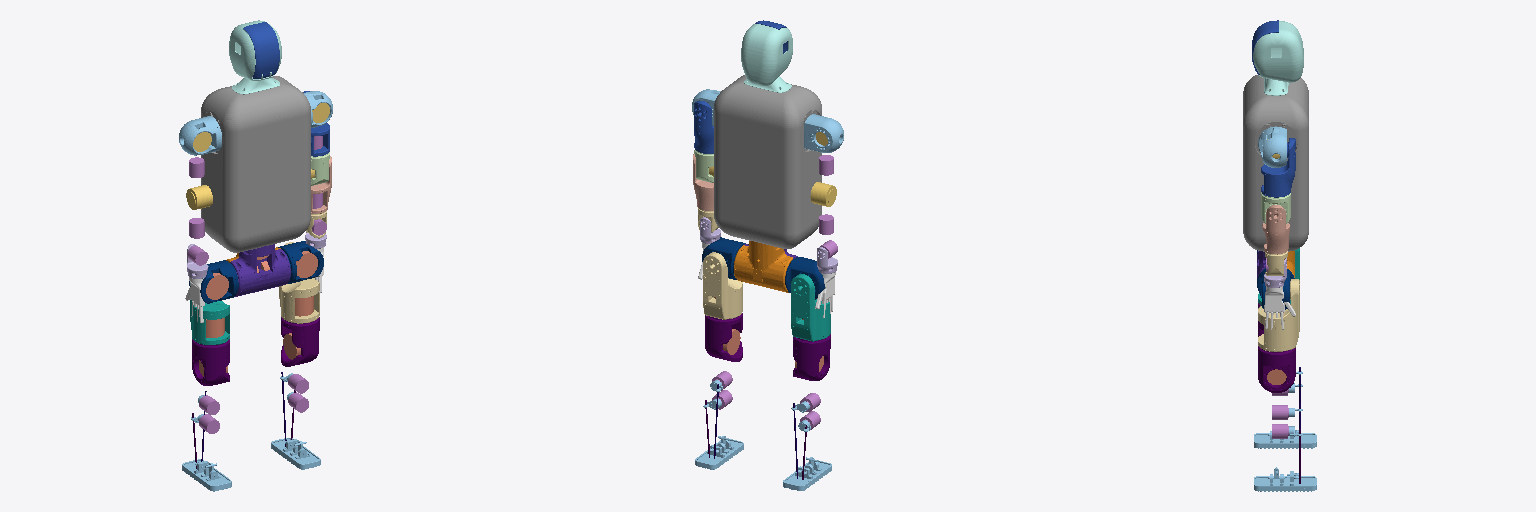
--- What the picture shows (computed from the rendered views, not written in the file) ---
Views: 3 orthographic renders of the robot side by side, from view 1: azimuth 30°, elevation 25°; view 2: azimuth 150°, elevation 25°; view 3: azimuth 270°, elevation 25°.
Robot: robot_harambe — 26 links, 25 joints (25 revolute); root link urdf_base; default pose: all joints at 0.
Visible links, largest first — view 1: urdf_simplified_torso, urdf_base, urdf_r_upper_femur_assemby, urdf_lower_femur_assembly_2, urdf_lower_femur_assembly, urdf_l_upper_femur_assembly, urdf_l_shoulder_assembly, urdf_hip_assembly, urdf_hip_assembly_2, urdf_foot_assembly_2, urdf_foot_assembly, urdf_r_tibia_assembly (+6 smaller); view 2: urdf_simplified_torso, urdf_base, urdf_r_upper_femur_assemby, urdf_l_upper_femur_assembly, urdf_lower_femur_assembly_2, urdf_lower_femur_assembly, urdf_l_shoulder_assembly, urdf_r_upper_arm_assembly, urdf_l_wrist_assembly, urdf_l_tibia_assembly, urdf_r_tibia_assembly, urdf_foot_assembly (+4 smaller); view 3: urdf_simplified_torso, urdf_r_upper_femur_assemby, urdf_lower_femur_assembly_2, urdf_r_upper_arm_assembly, urdf_r_upper_forearm_assembly, urdf_r_shoulder_assembly, urdf_r_wrist_assembly, urdf_foot_assembly_2, urdf_foot_assembly, urdf_r_tibia_assembly.
Link boxes in pixels (bbox=[...]): urdf_simplified_torso: bbox=[201, 20, 310, 252]; urdf_base: bbox=[226, 244, 290, 296]; urdf_r_upper_femur_assemby: bbox=[279, 242, 319, 323]; urdf_lower_femur_assembly_2: bbox=[281, 317, 319, 366]; urdf_lower_femur_assembly: bbox=[192, 339, 229, 385]; urdf_l_upper_femur_assembly: bbox=[190, 300, 229, 344]; urdf_l_shoulder_assembly: bbox=[179, 116, 221, 155]; urdf_hip_assembly: bbox=[189, 260, 238, 303]; urdf_hip_assembly_2: bbox=[278, 241, 323, 283]; urdf_foot_assembly_2: bbox=[271, 438, 320, 469]; urdf_foot_assembly: bbox=[182, 459, 231, 491]; urdf_r_tibia_assembly: bbox=[280, 372, 308, 446]; urdf_simplified_torso: bbox=[714, 20, 821, 248]; urdf_base: bbox=[734, 241, 797, 292]; urdf_r_upper_femur_assemby: bbox=[703, 252, 742, 319]; urdf_l_upper_femur_assembly: bbox=[791, 274, 830, 341]; urdf_lower_femur_assembly_2: bbox=[705, 313, 742, 361]; urdf_lower_femur_assembly: bbox=[793, 334, 830, 380]; urdf_l_shoulder_assembly: bbox=[804, 114, 843, 152]; urdf_r_upper_arm_assembly: bbox=[694, 101, 713, 153]; urdf_l_wrist_assembly: bbox=[815, 247, 837, 317]; urdf_l_tibia_assembly: bbox=[791, 393, 820, 479]; urdf_r_tibia_assembly: bbox=[703, 371, 732, 458]; urdf_foot_assembly: bbox=[783, 460, 831, 490]; urdf_simplified_torso: bbox=[1243, 20, 1308, 251]; urdf_r_upper_femur_assemby: bbox=[1258, 279, 1299, 351]; urdf_lower_femur_assembly_2: bbox=[1258, 346, 1295, 392]; urdf_r_upper_arm_assembly: bbox=[1261, 138, 1295, 197]; urdf_r_upper_forearm_assembly: bbox=[1262, 205, 1289, 254]; urdf_r_shoulder_assembly: bbox=[1258, 126, 1286, 167]; urdf_r_wrist_assembly: bbox=[1264, 258, 1295, 329]; urdf_foot_assembly_2: bbox=[1254, 471, 1316, 491]; urdf_foot_assembly: bbox=[1254, 430, 1316, 448]; urdf_r_tibia_assembly: bbox=[1272, 404, 1302, 483].
Size in the robot's own frame: 0.6166 by 0.2679 by 1.77 metres.
Meshes: 33 distinct files referenced, 56 mesh visuals loaded (27 binary STL); not drawn: 6 (reference not matched to a file when rendering).

The robot description file, URDF, robot "robot_harambe":
<?xml version="1.0" ?>
<!-- Generated using onshape-to-robot -->
<!-- Onshape document_id: 44eccb8c34362883e6cd3fd1 -->
<robot name="robot_harambe">
  <!-- Link urdf_base -->
  <link name="urdf_base">
    <inertial>
      <origin xyz="0.000699269 0.0334604 -0.431702" rpy="0 0 0"/>
      <mass value="5.132"/>
      <inertia ixx="0.0213139" ixy="-2.35276e-07" ixz="6.5838e-06" iyy="0.0288848" iyz="-2.88595e-05" izz="0.0155352"/>
    </inertial>
    <!-- Part stator_x8_p20_120_unified -->
    <visual>
      <origin xyz="-0.0103011 0.0333787 -0.467748" rpy="-1.5708 0.785398 1.5708"/>
      <geometry>
        <mesh filename="package://assets/stator_x8_p20_120_unified.stl"/>
      </geometry>
      <material name="stator_x8_p20_120_unified_material">
        <color rgba="0.882353 0.572549 0.478431 1"/>
      </material>
    </visual>
    <collision>
      <origin xyz="-0.0103011 0.0333787 -0.467748" rpy="-1.5708 0.785398 1.5708"/>
      <geometry>
        <mesh filename="package://assets/stator_x8_p20_120_unified.stl"/>
      </geometry>
    </collision>
    <!-- Part b_base -->
    <visual>
      <origin xyz="0.000697952 -0.00271429 -0.432504" rpy="0 -0 0"/>
      <geometry>
        <mesh filename="package://assets/b_base.stl"/>
      </geometry>
      <material name="b_base_material">
        <color rgba="0.368627 0.25098 0.643137 1"/>
      </material>
    </visual>
    <collision>
      <origin xyz="0.000697952 -0.00271429 -0.432504" rpy="0 -0 0"/>
      <geometry>
        <mesh filename="package://assets/b_base.stl"/>
      </geometry>
    </collision>
    <!-- Part stator_x8_p20_120_unified_2 -->
    <visual>
      <origin xyz="0.0116989 0.0333787 -0.467748" rpy="1.5708 -0.785398 1.5708"/>
      <geometry>
        <mesh filename="package://assets/stator_x8_p20_120_unified.stl"/>
      </geometry>
      <material name="stator_x8_p20_120_unified_2_material">
        <color rgba="0.882353 0.572549 0.478431 1"/>
      </material>
    </visual>
    <collision>
      <origin xyz="0.0116989 0.0333787 -0.467748" rpy="1.5708 -0.785398 1.5708"/>
      <geometry>
        <mesh filename="package://assets/stator_x8_p20_120_unified.stl"/>
      </geometry>
    </collision>
    <!-- Part stator_x8_p20_120_unified_3 -->
    <visual>
      <origin xyz="0.000698852 0.0333787 -0.396748" rpy="0 -0 0"/>
      <geometry>
        <mesh filename="package://assets/stator_x8_p20_120_unified.stl"/>
      </geometry>
      <material name="stator_x8_p20_120_unified_3_material">
        <color rgba="0.882353 0.572549 0.478431 1"/>
      </material>
    </visual>
    <collision>
      <origin xyz="0.000698852 0.0333787 -0.396748" rpy="0 -0 0"/>
      <geometry>
        <mesh filename="package://assets/stator_x8_p20_120_unified.stl"/>
      </geometry>
    </collision>
    <!-- Part f_base -->
    <visual>
      <origin xyz="0.000705351 0.070373 -0.431099" rpy="0 -0 0"/>
      <geometry>
        <mesh filename="package://assets/f_base.stl"/>
      </geometry>
      <material name="f_base_material">
        <color rgba="0.909804 0.572549 0.164706 1"/>
      </material>
    </visual>
    <collision>
      <origin xyz="0.000705351 0.070373 -0.431099" rpy="0 -0 0"/>
      <geometry>
        <mesh filename="package://assets/f_base.stl"/>
      </geometry>
    </collision>
  </link>
  <!-- Link urdf_simplified_torso -->
  <link name="urdf_simplified_torso">
    <inertial>
      <origin xyz="3.65935e-05 0.00131439 0.32693" rpy="0 0 0"/>
      <mass value="5.9"/>
      <inertia ixx="0.291383" ixy="1.29291e-06" ixz="-8.5891e-05" iyy="0.318357" iyz="-0.00277833" izz="0.0767614"/>
    </inertial>
    <!-- Part urdf_simplified_torso -->
    <visual>
      <origin xyz="0 5.1e-11 0.26095" rpy="-0 -0 -0"/>
      <geometry>
        <mesh filename="package://assets/urdf_simplified_torso.stl"/>
      </geometry>
      <material name="urdf_simplified_torso_material">
        <color rgba="0.647059 0.647059 0.647059 1"/>
      </material>
    </visual>
    <collision>
      <origin xyz="0 5.1e-11 0.26095" rpy="-0 -0 -0"/>
      <geometry>
        <mesh filename="package://assets/urdf_simplified_torso.stl"/>
      </geometry>
    </collision>
    <!-- Part head -->
    <visual>
      <origin xyz="0.000358088 3.7822e-05 0.67095" rpy="0 0 0"/>
      <geometry>
        <mesh filename="package://assets/head.stl"/>
      </geometry>
      <material name="head_material">
        <color rgba="0.737255 0.937255 0.917647 1"/>
      </material>
    </visual>
    <collision>
      <origin xyz="0.000358088 3.7822e-05 0.67095" rpy="0 0 0"/>
      <geometry>
        <mesh filename="package://assets/head.stl"/>
      </geometry>
    </collision>
    <!-- Part back_access -->
    <visual>
      <origin xyz="0.000358088 3.7822e-05 0.672878" rpy="0 0 0"/>
      <geometry>
        <mesh filename="package://assets/back_access.stl"/>
      </geometry>
      <material name="back_access_material">
        <color rgba="0.231373 0.380392 0.705882 1"/>
      </material>
    </visual>
    <collision>
      <origin xyz="0.000358088 3.7822e-05 0.672878" rpy="0 0 0"/>
      <geometry>
        <mesh filename="package://assets/back_access.stl"/>
      </geometry>
    </collision>
  </link>
  <!-- Link urdf_l_shoulder_assembly -->
  <link name="urdf_l_shoulder_assembly">
    <inertial>
      <origin xyz="-0.00413417 4.09728e-05 0.0631966" rpy="0 0 0"/>
      <mass value="1.246"/>
      <inertia ixx="0.00206364" ixy="1.488e-06" ixz="-3.5558e-05" iyy="0.00171114" iyz="3.32975e-06" izz="0.00152408"/>
    </inertial>
    <!-- Part l_shoulder -->
    <visual>
      <origin xyz="-0.00130076 6.96521e-06 0.0502746" rpy="1.5708 1.5708 0"/>
      <geometry>
        <mesh filename="package://assets/l_shoulder.stl"/>
      </geometry>
      <material name="l_shoulder_material">
        <color rgba="0.615686 0.811765 0.929412 1"/>
      </material>
    </visual>
    <collision>
      <origin xyz="-0.00130076 6.96521e-06 0.0502746" rpy="1.5708 1.5708 0"/>
      <geometry>
        <mesh filename="package://assets/l_shoulder.stl"/>
      </geometry>
    </collision>
    <!-- Part stator_x6_p20_60_unified -->
    <visual>
      <origin xyz="-0.0385 0 0.07" rpy="0 1.5708 0"/>
      <geometry>
        <mesh filename="package://assets/stator_x6_p20_60_unified.stl"/>
      </geometry>
      <material name="stator_x6_p20_60_unified_material">
        <color rgba="0.960784 0.835294 0.470588 1"/>
      </material>
    </visual>
    <collision>
      <origin xyz="-0.0385 0 0.07" rpy="0 1.5708 0"/>
      <geometry>
        <mesh filename="package://assets/stator_x6_p20_60_unified.stl"/>
      </geometry>
    </collision>
  </link>
  <!-- Link urdf_l_upper_arm_assembly -->
  <link name="urdf_l_upper_arm_assembly">
    <inertial>
      <origin xyz="0.000631443 0.105506 -0.0354438" rpy="0 0 0"/>
      <mass value="0.802"/>
      <inertia ixx="0.00206427" ixy="-2.68695e-05" ixz="1.03041e-05" iyy="0.00104318" iyz="0.000475779" izz="0.00190836"/>
    </inertial>
    <!-- Part urdf_l_upper_arm_simplified -->
    <visual>
      <origin xyz="0.00120028 0.0932559 -0.0268697" rpy="1.5708 -0.785398 0"/>
      <geometry>
        <mesh filename="package://assets/urdf_l_upper_arm_simplified.stl"/>
      </geometry>
      <material name="urdf_l_upper_arm_simplified_material">
        <color rgba="0.917647 0.917647 0.917647 1"/>
      </material>
    </visual>
    <collision>
      <origin xyz="0.00120028 0.0932559 -0.0268697" rpy="1.5708 -0.785398 0"/>
      <geometry>
        <mesh filename="package://assets/urdf_l_upper_arm_simplified.stl"/>
      </geometry>
    </collision>
    <!-- Part stator_x4_p36_36_unified -->
    <visual>
      <origin xyz="0 0.091 -0.046" rpy="-1.5708 0.785398 0"/>
      <geometry>
        <mesh filename="package://assets/stator_x4_p36_36_unified.stl"/>
      </geometry>
      <material name="stator_x4_p36_36_unified_material">
        <color rgba="0.764706 0.545098 0.803922 1"/>
      </material>
    </visual>
    <collision>
      <origin xyz="0 0.091 -0.046" rpy="-1.5708 0.785398 0"/>
      <geometry>
        <mesh filename="package://assets/stator_x4_p36_36_unified.stl"/>
      </geometry>
    </collision>
  </link>
  <!-- Link urdf_l_elbow_assembly -->
  <link name="urdf_l_elbow_assembly">
    <inertial>
      <origin xyz="0.000297133 0.00777593 -0.0710681" rpy="0 0 0"/>
      <mass value="1.109"/>
      <inertia ixx="0.00140529" ixy="1.03356e-05" ixz="-1.68171e-05" iyy="0.00151899" iyz="7.83699e-05" izz="0.00113761"/>
    </inertial>
    <!-- Part stator_x6_p20_60_unified_2 -->
    <visual>
      <origin xyz="-0 0.044 -0.075" rpy="1.5708 1.5708 0"/>
      <geometry>
        <mesh filename="package://assets/stator_x6_p20_60_unified.stl"/>
      </geometry>
      <material name="stator_x6_p20_60_unified_2_material">
        <color rgba="0.960784 0.835294 0.470588 1"/>
      </material>
    </visual>
    <collision>
      <origin xyz="-0 0.044 -0.075" rpy="1.5708 1.5708 0"/>
      <geometry>
        <mesh filename="package://assets/stator_x6_p20_60_unified.stl"/>
      </geometry>
    </collision>
    <!-- Part urdf_l_elbow_simplified -->
    <visual>
      <origin xyz="-0 0.01225 -0.075" rpy="-1.5708 1.5708 0"/>
      <geometry>
        <mesh filename="package://assets/urdf_l_elbow_simplified.stl"/>
      </geometry>
      <material name="urdf_l_elbow_simplified_material">
        <color rgba="0.231373 0.380392 0.705882 1"/>
      </material>
    </visual>
    <collision>
      <origin xyz="-0 0.01225 -0.075" rpy="-1.5708 1.5708 0"/>
      <geometry>
        <mesh filename="package://assets/urdf_l_elbow_simplified.stl"/>
      </geometry>
    </collision>
  </link>
  <!-- Link urdf_l_upper_forearm_assembly -->
  <link name="urdf_l_upper_forearm_assembly">
    <inertial>
      <origin xyz="0.10341 0.00191699 0.0286559" rpy="0 0 0"/>
      <mass value="0.707"/>
      <inertia ixx="0.000720041" ixy="-2.79231e-06" ixz="-0.000365631" iyy="0.00168211" iyz="-5.21195e-06" izz="0.00146156"/>
    </inertial>
    <!-- Part urdf_l_upper_forearm_simplified -->
    <visual>
      <origin xyz="0.119 0 0.035" rpy="0 -1.5708 0"/>
      <geometry>
        <mesh filename="package://assets/urdf_l_upper_forearm_simplified.stl"/>
      </geometry>
      <material name="urdf_l_upper_forearm_simplified_material">
        <color rgba="0.498039 0.498039 0.498039 1"/>
      </material>
    </visual>
    <collision>
      <origin xyz="0.119 0 0.035" rpy="0 -1.5708 0"/>
      <geometry>
        <mesh filename="package://assets/urdf_l_upper_forearm_simplified.stl"/>
      </geometry>
    </collision>
    <!-- Part stator_x4_p36_36_unified_2 -->
    <visual>
      <origin xyz="0.09 0 0.035" rpy="-3.14159 -1.5708 0"/>
      <geometry>
        <mesh filename="package://assets/stator_x4_p36_36_unified.stl"/>
      </geometry>
      <material name="stator_x4_p36_36_unified_2_material">
        <color rgba="0.764706 0.545098 0.803922 1"/>
      </material>
    </visual>
    <collision>
      <origin xyz="0.09 0 0.035" rpy="-3.14159 -1.5708 0"/>
      <geometry>
        <mesh filename="package://assets/stator_x4_p36_36_unified.stl"/>
      </geometry>
    </collision>
  </link>
  <!-- Link urdf_l_lower_forearm_assembly -->
  <link name="urdf_l_lower_forearm_assembly">
    <inertial>
      <origin xyz="-0.000687732 -0.00432126 -0.0515634" rpy="0 0 0"/>
      <mass value="0.618"/>
      <inertia ixx="0.000619445" ixy="-4.69813e-06" ixz="1.66447e-05" iyy="0.000626234" iyz="-2.276e-05" izz="0.000448744"/>
    </inertial>
    <!-- Part urdf_l_lower_forearm_simplified -->
    <visual>
      <origin xyz="0 -0.009 -0.0615" rpy="-1.5708 0 3.14159"/>
      <geometry>
        <mesh filename="package://assets/urdf_l_lower_forearm_simplified.stl"/>
      </geometry>
      <material name="urdf_l_lower_forearm_simplified_material">
        <color rgba="0.980392 0.713725 0.00392157 1"/>
      </material>
    </visual>
    <collision>
      <origin xyz="0 -0.009 -0.0615" rpy="-1.5708 0 3.14159"/>
      <geometry>
        <mesh filename="package://assets/urdf_l_lower_forearm_simplified.stl"/>
      </geometry>
    </collision>
    <!-- Part stator_x4_p36_36_unified_3 -->
    <visual>
      <origin xyz="0 -0.0375 -0.0615" rpy="1.5708 0 -3.14159"/>
      <geometry>
        <mesh filename="package://assets/stator_x4_p36_36_unified.stl"/>
      </geometry>
      <material name="stator_x4_p36_36_unified_3_material">
        <color rgba="0.764706 0.545098 0.803922 1"/>
      </material>
    </visual>
    <collision>
      <origin xyz="0 -0.0375 -0.0615" rpy="1.5708 0 -3.14159"/>
      <geometry>
        <mesh filename="package://assets/stator_x4_p36_36_unified.stl"/>
      </geometry>
    </collision>
  </link>
  <!-- Link urdf_l_wrist_assembly -->
  <link name="urdf_l_wrist_assembly">
    <inertial>
      <origin xyz="-1.08315e-06 0.112614 -0.0282716" rpy="0 0 0"/>
      <mass value="0.398"/>
      <inertia ixx="0.00160501" ixy="-2.3164e-08" ixz="7.037e-09" iyy="0.000274862" iyz="5.58167e-05" izz="0.00146537"/>
    </inertial>
    <!-- Part l_wrist -->
    <visual>
      <origin xyz="-4.31502e-06 0.0434653 -0.0219314" rpy="1.5708 0 0"/>
      <geometry>
        <mesh filename="package://assets/l_wrist.stl"/>
      </geometry>
      <material name="l_wrist_material">
        <color rgba="0.8 0.74902 0.913725 1"/>
      </material>
    </visual>
    <collision>
      <origin xyz="-4.31502e-06 0.0434653 -0.0219314" rpy="1.5708 0 0"/>
      <geometry>
        <mesh filename="package://assets/l_wrist.stl"/>
      </geometry>
    </collision>
    <!-- Part l_hand -->
    <visual>
      <origin xyz="-2.67e-09 0.135203 -0.0303429" rpy="1.5708 -1.5708 0"/>
      <geometry>
        <mesh filename="package://assets/l_hand.stl"/>
      </geometry>
      <material name="l_hand_material">
        <color rgba="1 1 1 1"/>
      </material>
    </visual>
    <collision>
      <origin xyz="-2.67e-09 0.135203 -0.0303429" rpy="1.5708 -1.5708 0"/>
      <geometry>
        <mesh filename="package://assets/l_hand.stl"/>
      </geometry>
    </collision>
  </link>
  <!-- Joint from urdf_l_lower_forearm_assembly to urdf_l_wrist_assembly -->
  <joint name="left_wrist_roll_joint_X4" type="revolute">
    <origin xyz="0 0.027 -0.0615" rpy="-1.5708 -0 0"/>
    <parent link="urdf_l_lower_forearm_assembly"/>
    <child link="urdf_l_wrist_assembly"/>
    <axis xyz="0 0 1"/>
    <limit effort="10" velocity="10" lower="-1.5708" upper="1.5708"/>
  </joint>
  <!-- Joint from urdf_l_upper_forearm_assembly to urdf_l_lower_forearm_assembly -->
  <joint name="left_wrist_yaw_joint_X4" type="revolute">
    <origin xyz="0.163 0 0.035" rpy="0 -1.5708 0"/>
    <parent link="urdf_l_upper_forearm_assembly"/>
    <child link="urdf_l_lower_forearm_assembly"/>
    <axis xyz="0 0 1"/>
    <limit effort="10" velocity="10" lower="-2.35619" upper="2.35619"/>
  </joint>
  <!-- Joint from urdf_l_elbow_assembly to urdf_l_upper_forearm_assembly -->
  <joint name="left_elbow_pitch_joint_X6" type="revolute">
    <origin xyz="-0 -0.035 -0.075" rpy="-1.5708 1.5708 0"/>
    <parent link="urdf_l_elbow_assembly"/>
    <child link="urdf_l_upper_forearm_assembly"/>
    <axis xyz="0 0 1"/>
    <limit effort="10" velocity="10" lower="-1.5708" upper="1.5708"/>
  </joint>
  <!-- Joint from urdf_l_upper_arm_assembly to urdf_l_elbow_assembly -->
  <joint name="left_shoulder_yaw_joint_X4" type="revolute">
    <origin xyz="-0 0.165 -0.046" rpy="1.5708 1.5708 0"/>
    <parent link="urdf_l_upper_arm_assembly"/>
    <child link="urdf_l_elbow_assembly"/>
    <axis xyz="0 0 1"/>
    <limit effort="10" velocity="10" lower="-2.35619" upper="2.35619"/>
  </joint>
  <!-- Joint from urdf_l_shoulder_assembly to urdf_l_upper_arm_assembly -->
  <joint name="left_shoulder_roll_joint_X6" type="revolute">
    <origin xyz="0.046 -0 0.07" rpy="-0 1.5708 0"/>
    <parent link="urdf_l_shoulder_assembly"/>
    <child link="urdf_l_upper_arm_assembly"/>
    <axis xyz="0 0 1"/>
    <limit effort="10" velocity="10" lower="0" upper="3.14159"/>
  </joint>
  <!-- Joint from urdf_simplified_torso to urdf_l_shoulder_assembly -->
  <joint name="left_shoulder_pitch_joint_X6" type="revolute">
    <origin xyz="-0.1755 -5.1e-11 0.423977" rpy="-1.5708 0 1.5708"/>
    <parent link="urdf_simplified_torso"/>
    <child link="urdf_l_shoulder_assembly"/>
    <axis xyz="0 0 1"/>
    <limit effort="10" velocity="10" lower="-3.14159" upper="1.5708"/>
  </joint>
  <!-- Link urdf_r_shoulder_assembly -->
  <link name="urdf_r_shoulder_assembly">
    <inertial>
      <origin xyz="-0.00474022 2.53153e-05 -0.0660727" rpy="0 0 0"/>
      <mass value="1.02"/>
      <inertia ixx="0.00132827" ixy="7.40443e-07" ixz="1.40702e-05" iyy="0.00114323" iyz="-1.76147e-06" izz="0.00104972"/>
    </inertial>
    <!-- Part stator_x6_p20_60_unified_3 -->
    <visual>
      <origin xyz="-0.0385 -0 -0.07" rpy="-0 1.5708 0"/>
      <geometry>
        <mesh filename="package://assets/stator_x6_p20_60_unified.stl"/>
      </geometry>
      <material name="stator_x6_p20_60_unified_3_material">
        <color rgba="0.960784 0.835294 0.470588 1"/>
      </material>
    </visual>
    <collision>
      <origin xyz="-0.0385 -0 -0.07" rpy="-0 1.5708 0"/>
      <geometry>
        <mesh filename="package://assets/stator_x6_p20_60_unified.stl"/>
      </geometry>
    </collision>
    <!-- Part r_shoulder -->
    <visual>
      <origin xyz="-0.00129067 6.91178e-06 -0.0501448" rpy="1.5708 1.5708 0"/>
      <geometry>
        <mesh filename="package://assets/r_shoulder.stl"/>
      </geometry>
      <material name="r_shoulder_material">
        <color rgba="0.615686 0.811765 0.929412 1"/>
      </material>
    </visual>
    <collision>
      <origin xyz="-0.00129067 6.91178e-06 -0.0501448" rpy="1.5708 1.5708 0"/>
      <geometry>
        <mesh filename="package://assets/r_shoulder.stl"/>
      </geometry>
    </collision>
  </link>
  <!-- Link urdf_r_upper_arm_assembly -->
  <link name="urdf_r_upper_arm_assembly">
    <inertial>
      <origin xyz="-9.416e-09 -0.104084 0.0297331" rpy="0 0 0"/>
      <mass value="0.802"/>
      <inertia ixx="0.00204755" ixy="-6.95e-10" ixz="1.159e-09" iyy="0.0010158" iyz="0.000468447" izz="0.00188605"/>
    </inertial>
    <!-- Part stator_x4_p36_36_unified_4 -->
    <visual>
      <origin xyz="0 -0.091 0.041" rpy="1.5708 -0 0"/>
      <geometry>
        <mesh filename="package://assets/stator_x4_p36_36_unified.stl"/>
      </geometry>
      <material name="stator_x4_p36_36_unified_4_material">
        <color rgba="0.764706 0.545098 0.803922 1"/>
      </material>
    </visual>
    <collision>
      <origin xyz="0 -0.091 0.041" rpy="1.5708 -0 0"/>
      <geometry>
        <mesh filename="package://assets/stator_x4_p36_36_unified.stl"/>
      </geometry>
    </collision>
    <!-- Part r_upper_arm -->
    <visual>
      <origin xyz="-4.6857e-08 -0.0905315 0.020543" rpy="-1.5708 0 0"/>
      <geometry>
        <mesh filename="package://assets/r_upper_arm.stl"/>
      </geometry>
      <material name="r_upper_arm_material">
        <color rgba="0.231373 0.380392 0.705882 1"/>
      </material>
    </visual>
    <collision>
      <origin xyz="-4.6857e-08 -0.0905315 0.020543" rpy="-1.5708 0 0"/>
      <geometry>
        <mesh filename="package://assets/r_upper_arm.stl"/>
      </geometry>
    </collision>
  </link>
  <!-- Link urdf_r_elbow_assembly -->
  <link name="urdf_r_elbow_assembly">
    <inertial>
      <origin xyz="-0.0084574 3.15569e-05 -0.0612736" rpy="0 0 0"/>
      <mass value="1.109"/>
      <inertia ixx="0.00151237" ixy="-3.07412e-07" ixz="-6.05931e-05" iyy="0.00139043" iyz="-2.25603e-06" izz="0.00111817"/>
    </inertial>
    <!-- Part r_elbow -->
    <visual>
      <origin xyz="0.000331582 1.16025e-05 -0.0512953" rpy="0 -0 -0"/>
      <geometry>
        <mesh filename="package://assets/r_elbow.stl"/>
      </geometry>
      <material name="r_elbow_material">
        <color rgba="0.796078 0.905882 0.745098 1"/>
      </material>
    </visual>
    <collision>
      <origin xyz="0.000331582 1.16025e-05 -0.0512953" rpy="0 -0 -0"/>
      <geometry>
        <mesh filename="package://assets/r_elbow.stl"/>
      </geometry>
    </collision>
    <!-- Part stator_x6_p20_60_unified_4 -->
    <visual>
      <origin xyz="-0.0445 0 -0.065" rpy="3.14159 -1.5708 0"/>
      <geometry>
        <mesh filename="package://assets/stator_x6_p20_60_unified.stl"/>
      </geometry>
      <material name="stator_x6_p20_60_unified_4_material">
        <color rgba="0.960784 0.835294 0.470588 1"/>
      </material>
    </visual>
    <collision>
      <origin xyz="-0.0445 0 -0.065" rpy="3.14159 -1.5708 0"/>
      <geometry>
        <mesh filename="package://assets/stator_x6_p20_60_unified.stl"/>
      </geometry>
    </collision>
  </link>
  <!-- Link urdf_r_upper_forearm_assembly -->
  <link name="urdf_r_upper_forearm_assembly">
    <inertial>
      <origin xyz="0.00228064 0.101792 0.0327896" rpy="0 0 0"/>
      <mass value="0.707"/>
      <inertia ixx="0.00166903" ixy="-1.53798e-05" ixz="-1.15872e-05" iyy="0.000703651" iyz="-0.000352466" izz="0.0014499"/>
    </inertial>
    <!-- Part stator_x4_p36_36_unified_5 -->
    <visual>
      <origin xyz="0 0.09 0.04" rpy="-1.5708 1.5708 0"/>
      <geometry>
        <mesh filename="package://assets/stator_x4_p36_36_unified.stl"/>
      </geometry>
      <material name="stator_x4_p36_36_unified_5_material">
        <color rgba="0.764706 0.545098 0.803922 1"/>
      </material>
    </visual>
    <collision>
      <origin xyz="0 0.09 0.04" rpy="-1.5708 1.5708 0"/>
      <geometry>
        <mesh filename="package://assets/stator_x4_p36_36_unified.stl"/>
      </geometry>
    </collision>
    <!-- Part r_upper_forearm -->
    <visual>
      <origin xyz="0.00466986 0.0842107 0.0254856" rpy="1.5708 1.5708 0"/>
      <geometry>
        <mesh filename="package://assets/r_upper_forearm.stl"/>
      </geometry>
      <material name="r_upper_forearm_material">
        <color rgba="0.890196 0.698039 0.639216 1"/>
      </material>
    </visual>
    <collision>
      <origin xyz="0.00466986 0.0842107 0.0254856" rpy="1.5708 1.5708 0"/>
      <geometry>
        <mesh filename="package://assets/r_upper_forearm.stl"/>
      </geometry>
    </collision>
  </link>
  <!-- Link urdf_r_lower_forearm_assembly -->
  <link name="urdf_r_lower_forearm_assembly">
    <inertial>
      <origin xyz="-2.4334e-08 0.00399848 0.046852" rpy="0 0 0"/>
      <mass value="0.618"/>
      <inertia ixx="0.000618602" ixy="-1.76e-10" ixz="5.34e-10" iyy="0.000617307" iyz="-3.83228e-05" izz="0.000437775"/>
    </inertial>
    <!-- Part r_lower_forearm -->
    <visual>
      <origin xyz="4.2712e-08 -0.00205797 0.0333447" rpy="3.14159 -0 0"/>
      <geometry>
        <mesh filename="package://assets/r_lower_forearm.stl"/>
      </geometry>
      <material name="r_lower_forearm_material">
        <color rgba="0.941176 0.87451 0.678431 1"/>
      </material>
    </visual>
    <collision>
      <origin xyz="4.2712e-08 -0.00205797 0.0333447" rpy="3.14159 -0 0"/>
      <geometry>
        <mesh filename="package://assets/r_lower_forearm.stl"/>
      </geometry>
    </collision>
    <!-- Part stator_x4_p36_36_unified_6 -->
    <visual>
      <origin xyz="-0 0.038 0.0565" rpy="-1.5708 -0 -3.14159"/>
      <geometry>
        <mesh filename="package://assets/stator_x4_p36_36_unified.stl"/>
      </geometry>
      <material name="stator_x4_p36_36_unified_6_material">
        <color rgba="0.764706 0.545098 0.803922 1"/>
      </material>
    </visual>
    <collision>
      <origin xyz="-0 0.038 0.0565" rpy="-1.5708 -0 -3.14159"/>
      <geometry>
        <mesh filename="package://assets/stator_x4_p36_36_unified.stl"/>
      </geometry>
    </collision>
  </link>
  <!-- Link urdf_r_wrist_assembly -->
  <link name="urdf_r_wrist_assembly">
    <inertial>
      <origin xyz="1.54616e-06 0.104482 -0.0275327" rpy="0 0 0"/>
      <mass value="0.45"/>
      <inertia ixx="0.001889" ixy="3.2626e-08" ixz="-1.0208e-08" iyy="0.000327099" iyz="9.3721e-05" izz="0.0017356"/>
    </inertial>
    <!-- Part r_hand -->
    <visual>
      <origin xyz="2.67e-09 0.135003 -0.0303429" rpy="1.5708 1.5708 0"/>
      <geometry>
        <mesh filename="package://assets/r_hand.stl"/>
      </geometry>
      <material name="r_hand_material">
        <color rgba="1 1 1 1"/>
      </material>
    </visual>
    <collision>
      <origin xyz="2.67e-09 0.135003 -0.0303429" rpy="1.5708 1.5708 0"/>
      <geometry>
        <mesh filename="package://assets/r_hand.stl"/>
      </geometry>
    </collision>
    <!-- Part r_wrist -->
    <visual>
      <origin xyz="4.44584e-06 0.0434653 -0.0219316" rpy="1.5708 -0 0"/>
      <geometry>
        <mesh filename="package://assets/r_wrist.stl"/>
      </geometry>
      <material name="r_wrist_material">
        <color rgba="0.8 0.74902 0.913725 1"/>
      </material>
    </visual>
    <collision>
      <origin xyz="4.44584e-06 0.0434653 -0.0219316" rpy="1.5708 -0 0"/>
      <geometry>
        <mesh filename="package://assets/r_wrist.stl"/>
      </geometry>
    </collision>
  </link>
  <!-- Joint from urdf_r_lower_forearm_assembly to urdf_r_wrist_assembly -->
  <joint name="right_wrist_roll_joint_X4" type="revolute">
    <origin xyz="-0 -0.027 0.0565" rpy="1.5708 0 -0"/>
    <parent link="urdf_r_lower_forearm_assembly"/>
    <child link="urdf_r_wrist_assembly"/>
    <axis xyz="0 0 1"/>
    <limit effort="10" velocity="10" lower="-1.5708" upper="1.5708"/>
  </joint>
  <!-- Joint from urdf_r_upper_forearm_assembly to urdf_r_lower_forearm_assembly -->
  <joint name="right_wrist_yaw_joint_X4" type="revolute">
    <origin xyz="-0 0.168 0.04" rpy="-1.5708 1.5708 0"/>
    <parent link="urdf_r_upper_forearm_assembly"/>
    <child link="urdf_r_lower_forearm_assembly"/>
    <axis xyz="0 0 1"/>
    <limit effort="10" velocity="10" lower="-2.35619" upper="2.35619"/>
  </joint>
  <!-- Joint from urdf_r_elbow_assembly to urdf_r_upper_forearm_assembly -->
  <joint name="right_elbow_pitch_joint_X6" type="revolute">
    <origin xyz="0.04 0 -0.065" rpy="-1.5708 0 1.5708"/>
    <parent link="urdf_r_elbow_assembly"/>
    <child link="urdf_r_upper_forearm_assembly"/>
    <axis xyz="0 0 1"/>
    <limit effort="10" velocity="10" lower="-1.5708" upper="1.5708"/>
  </joint>
  <!-- Joint from urdf_r_upper_arm_assembly to urdf_r_elbow_assembly -->
  <joint name="right_shoulder_yaw_joint_X4" type="revolute">
    <origin xyz="0 -0.17 0.041" rpy="-1.5708 0 0"/>
    <parent link="urdf_r_upper_arm_assembly"/>
    <child link="urdf_r_elbow_assembly"/>
    <axis xyz="0 0 1"/>
    <limit effort="10" velocity="10" lower="-2.35619" upper="2.35619"/>
  </joint>
  <!-- Joint from urdf_r_shoulder_assembly to urdf_r_upper_arm_assembly -->
  <joint name="right_shoulder_roll_joint_X6" type="revolute">
    <origin xyz="0.041 0 -0.07" rpy="-3.14159 1.5708 0"/>
    <parent link="urdf_r_shoulder_assembly"/>
    <child link="urdf_r_upper_arm_assembly"/>
    <axis xyz="0 0 1"/>
    <limit effort="10" velocity="10" lower="-3.14159" upper="0"/>
  </joint>
  <!-- Joint from urdf_simplified_torso to urdf_r_shoulder_assembly -->
  <joint name="right_shoulder_pitch_joint_X6" type="revolute">
    <origin xyz="0.1755 -5.1e-11 0.423977" rpy="-1.5708 -0 1.5708"/>
    <parent link="urdf_simplified_torso"/>
    <child link="urdf_r_shoulder_assembly"/>
    <axis xyz="0 0 1"/>
    <limit effort="10" velocity="10" lower="-3.14159" upper="1.5708"/>
  </joint>
  <!-- Joint from urdf_base to urdf_simplified_torso -->
  <joint name="waist_yaw_joint" type="revolute">
    <origin xyz="0.000698852 0.0333787 -0.300748" rpy="0 -0 0"/>
    <parent link="urdf_base"/>
    <child link="urdf_simplified_torso"/>
    <axis xyz="0 0 1"/>
    <limit effort="10" velocity="10" lower="-1.5708" upper="1.5708"/>
  </joint>
  <!-- Link urdf_hip_assembly -->
  <link name="urdf_hip_assembly">
    <inertial>
      <origin xyz="-0.00420762 6.23946e-06 0.0689982" rpy="0 0 0"/>
      <mass value="1.73"/>
      <inertia ixx="0.00302301" ixy="-4.5747e-08" ixz="2.30858e-05" iyy="0.00263533" iyz="8.49179e-07" izz="0.00228746"/>
    </inertial>
    <!-- Part hip -->
    <visual>
      <origin xyz="0.00253653 3.27638e-05 0.0520203" rpy="1.5708 1.5708 0"/>
      <geometry>
        <mesh filename="package://assets/hip.stl"/>
      </geometry>
      <material name="hip_material">
        <color rgba="0.0627451 0.266667 0.490196 1"/>
      </material>
    </visual>
    <collision>
      <origin xyz="0.00253653 3.27638e-05 0.0520203" rpy="1.5708 1.5708 0"/>
      <geometry>
        <mesh filename="package://assets/hip.stl"/>
      </geometry>
    </collision>
    <!-- Part stator_x8_p20_120_unified_4 -->
    <visual>
      <origin xyz="-0.043 -0 0.073" rpy="-3.14159 -1.5708 0"/>
      <geometry>
        <mesh filename="package://assets/stator_x8_p20_120_unified.stl"/>
      </geometry>
      <material name="stator_x8_p20_120_unified_4_material">
        <color rgba="0.882353 0.572549 0.478431 1"/>
      </material>
    </visual>
    <collision>
      <origin xyz="-0.043 -0 0.073" rpy="-3.14159 -1.5708 0"/>
      <geometry>
        <mesh filename="package://assets/stator_x8_p20_120_unified.stl"/>
      </geometry>
    </collision>
  </link>
  <!-- Link urdf_l_upper_femur_assembly -->
  <link name="urdf_l_upper_femur_assembly">
    <inertial>
      <origin xyz="-0.000406021 0.147969 -0.0457109" rpy="0 0 0"/>
      <mass value="1.912"/>
      <inertia ixx="0.00557257" ixy="-5.1876e-05" ixz="-1.18834e-06" iyy="0.00336728" iyz="0.000930002" izz="0.00512969"/>
    </inertial>
    <!-- Part l_upper_femur -->
    <visual>
      <origin xyz="-0.00151622 0.111785 -0.0257799" rpy="1.5708 0 0"/>
      <geometry>
        <mesh filename="package://assets/l_upper_femur.stl"/>
      </geometry>
      <material name="l_upper_femur_material">
        <color rgba="0.141176 0.694118 0.65098 1"/>
      </material>
    </visual>
    <collision>
      <origin xyz="-0.00151622 0.111785 -0.0257799" rpy="1.5708 0 0"/>
      <geometry>
        <mesh filename="package://assets/l_upper_femur.stl"/>
      </geometry>
    </collision>
    <!-- Part stator_x8_p20_120_unified_5 -->
    <visual>
      <origin xyz="0 0.124 -0.053" rpy="-1.5708 0 0"/>
      <geometry>
        <mesh filename="package://assets/stator_x8_p20_120_unified.stl"/>
      </geometry>
      <material name="stator_x8_p20_120_unified_5_material">
        <color rgba="0.882353 0.572549 0.478431 1"/>
      </material>
    </visual>
    <collision>
      <origin xyz="0 0.124 -0.053" rpy="-1.5708 0 0"/>
      <geometry>
        <mesh filename="package://assets/stator_x8_p20_120_unified.stl"/>
      </geometry>
    </collision>
  </link>
  <!-- Link urdf_lower_femur_assembly -->
  <link name="urdf_lower_femur_assembly">
    <inertial>
      <origin xyz="0.00357383 1.0389e-08 0.103307" rpy="0 0 0"/>
      <mass value="1.817"/>
      <inertia ixx="0.00421827" ixy="-2.5e-11" ixz="-0.00019709" iyy="0.00383469" iyz="-2.1291e-08" izz="0.00258541"/>
    </inertial>
    <!-- Part lower_femur -->
    <visual>
      <origin xyz="-0.00389134 -5.752e-09 0.070766" rpy="-3.14159 0 0"/>
      <geometry>
        <mesh filename="package://assets/lower_femur.stl"/>
      </geometry>
      <material name="lower_femur_material">
        <color rgba="0.380392 0.0470588 0.435294 1"/>
      </material>
    </visual>
    <collision>
      <origin xyz="-0.00389134 -5.752e-09 0.070766" rpy="-3.14159 0 0"/>
      <geometry>
        <mesh filename="package://assets/lower_femur.stl"/>
      </geometry>
    </collision>
    <!-- Part stator_x8_p20_120_unified_6 -->
    <visual>
      <origin xyz="0.043 -0 0.113" rpy="3.14159 1.5708 0"/>
      <geometry>
        <mesh filename="package://assets/stator_x8_p20_120_unified.stl"/>
      </geometry>
      <material name="stator_x8_p20_120_unified_6_material">
        <color rgba="0.882353 0.572549 0.478431 1"/>
      </material>
    </visual>
    <collision>
      <origin xyz="0.043 -0 0.113" rpy="3.14159 1.5708 0"/>
      <geometry>
        <mesh filename="package://assets/stator_x8_p20_120_unified.stl"/>
      </geometry>
    </collision>
  </link>
  <!-- Link urdf_l_tibia_assembly -->
  <link name="urdf_l_tibia_assembly">
    <inertial>
      <origin xyz="0.00463967 0.190721 -0.0449177" rpy="0 0 0"/>
      <mass value="6.45981"/>
      <inertia ixx="0.0785879" ixy="-0.00174734" ixz="0.000322174" iyy="0.0153456" iyz="0.00887502" izz="0.0762229"/>
    </inertial>
    <!-- Part stator_x4_p36_36_unified_7 -->
    <visual>
      <origin xyz="-0.018 0.16 -0.055" rpy="-0 1.5708 0"/>
      <geometry>
        <mesh filename="package://assets/stator_x4_p36_36_unified.stl"/>
      </geometry>
      <material name="stator_x4_p36_36_unified_7_material">
        <color rgba="0.764706 0.545098 0.803922 1"/>
      </material>
    </visual>
    <collision>
      <origin xyz="-0.018 0.16 -0.055" rpy="-0 1.5708 0"/>
      <geometry>
        <mesh filename="package://assets/stator_x4_p36_36_unified.stl"/>
      </geometry>
    </collision>
    <!-- Part stator_x4_p36_36_unified_8 -->
    <visual>
      <origin xyz="-0.018 0.235 -0.055" rpy="3.14159 -1.5708 0"/>
      <geometry>
        <mesh filename="package://assets/stator_x4_p36_36_unified.stl"/>
      </geometry>
      <material name="stator_x4_p36_36_unified_8_material">
        <color rgba="0.764706 0.545098 0.803922 1"/>
      </material>
    </visual>
    <collision>
      <origin xyz="-0.018 0.235 -0.055" rpy="3.14159 -1.5708 0"/>
      <geometry>
        <mesh filename="package://assets/stator_x4_p36_36_unified.stl"/>
      </geometry>
    </collision>
    <!-- Part m6_threaded_bar_300mm -->
    <visual>
      <origin xyz="0.0845 0.288554 -0.0732971" rpy="-3.14159 1.51844 1.5708"/>
      <geometry>
        <mesh filename="package://assets/m6_threaded_bar_300mm.stl"/>
      </geometry>
      <material name="m6_threaded_bar_300mm_material">
        <color rgba="0.141176 0.0352941 0.396078 1"/>
      </material>
    </visual>
    <collision>
      <origin xyz="0.0845 0.288554 -0.0732971" rpy="-3.14159 1.51844 1.5708"/>
      <geometry>
        <mesh filename="package://assets/m6_threaded_bar_300mm.stl"/>
      </geometry>
    </collision>
    <!-- Part urdf_spacer_x4 -->
    <visual>
      <origin xyz="0.05375 0.235 -0.055" rpy="-3.14159 1.50098 -1.5708"/>
      <geometry>
        <mesh filename="package://assets/urdf_spacer_x4.stl"/>
      </geometry>
      <material name="urdf_spacer_x4_material">
        <color rgba="0.615686 0.811765 0.929412 1"/>
      </material>
    </visual>
    <collision>
      <origin xyz="0.05375 0.235 -0.055" rpy="-3.14159 1.50098 -1.5708"/>
      <geometry>
        <mesh filename="package://assets/urdf_spacer_x4.stl"/>
      </geometry>
    </collision>
    <!-- Part urdf_l_tibia_assembly -->
    <visual>
      <origin xyz="0.000678721 0.186264 -0.0431371" rpy="1.5708 1.5708 0"/>
      <geometry>
        <mesh filename="package://assets/urdf_l_tibia_assembly.stl"/>
      </geometry>
      <material name="urdf_l_tibia_assembly_material">
        <color rgba="0.615686 0.811765 0.929412 1"/>
      </material>
    </visual>
    <collision>
      <origin xyz="0.000678721 0.186264 -0.0431371" rpy="1.5708 1.5708 0"/>
      <geometry>
        <mesh filename="package://assets/urdf_l_tibia_assembly.stl"/>
      </geometry>
    </collision>
    <!-- Part m6_threaded_bar_225mm -->
    <visual>
      <origin xyz="0.0845 0.326445 -0.0363334" rpy="-0 1.50098 -1.5708"/>
      <geometry>
        <mesh filename="package://assets/m6_threaded_bar_225mm.stl"/>
      </geometry>
      <material name="m6_threaded_bar_225mm_material">
        <color rgba="0.27451 0.0117647 0.317647 1"/>
      </material>
    </visual>
    <collision>
      <origin xyz="0.0845 0.326445 -0.0363334" rpy="-0 1.50098 -1.5708"/>
      <geometry>
        <mesh filename="package://assets/m6_threaded_bar_225mm.stl"/>
      </geometry>
    </collision>
    <!-- Part urdf_spacer_x4_2 -->
    <visual>
      <origin xyz="0.05375 0.16 -0.055" rpy="3.14159 -1.51844 -1.5708"/>
      <geometry>
        <mesh filename="package://assets/urdf_spacer_x4.stl"/>
      </geometry>
      <material name="urdf_spacer_x4_2_material">
        <color rgba="0.615686 0.811765 0.929412 1"/>
      </material>
    </visual>
    <collision>
      <origin xyz="0.05375 0.16 -0.055" rpy="3.14159 -1.51844 -1.5708"/>
      <geometry>
        <mesh filename="package://assets/urdf_spacer_x4.stl"/>
      </geometry>
    </collision>
  </link>
  <!-- Link udrf_ankle_assembly -->
  <link name="udrf_ankle_assembly">
    <inertial>
      <origin xyz="-0 0.0125426 -0.004" rpy="0 0 0"/>
      <mass value="0.0818219"/>
      <inertia ixx="1.69449e-05" ixy="0" ixz="0" iyy="1.25404e-05" iyz="0" izz="2.15245e-05"/>
    </inertial>
    <!-- Part udrf_ankle_assembly -->
    <visual>
      <origin xyz="-0 0.0125426 -0.004" rpy="1.5708 1.5708 0"/>
      <geometry>
        <mesh filename="package://assets/udrf_ankle_assembly.stl"/>
      </geometry>
      <material name="udrf_ankle_assembly_material">
        <color rgba="0.615686 0.811765 0.929412 1"/>
      </material>
    </visual>
    <collision>
      <origin xyz="-0 0.0125426 -0.004" rpy="1.5708 1.5708 0"/>
      <geometry>
        <mesh filename="package://assets/udrf_ankle_assembly.stl"/>
      </geometry>
    </collision>
  </link>
  <!-- Link urdf_foot_assembly -->
  <link name="urdf_foot_assembly">
    <inertial>
      <origin xyz="-9.74e-10 0.0209668 0.0427639" rpy="0 0 0"/>
      <mass value="0.504"/>
      <inertia ixx="0.00202397" ixy="-1.6e-11" ixz="1.2e-11" iyy="0.00229243" iyz="5.90887e-06" izz="0.000361698"/>
    </inertial>
    <!-- Part urdf_foot_assembly -->
    <visual>
      <origin xyz="5.5e-11 0.0209668 0.0427639" rpy="1.5708 0 -0"/>
      <geometry>
        <mesh filename="package://assets/urdf_foot_assembly.stl"/>
      </geometry>
      <material name="urdf_foot_assembly_material">
        <color rgba="0.615686 0.811765 0.929412 1"/>
      </material>
    </visual>
    <collision>
      <origin xyz="5.5e-11 0.0209668 0.0427639" rpy="1.5708 0 -0"/>
      <geometry>
        <mesh filename="package://assets/urdf_foot_assembly.stl"/>
      </geometry>
    </collision>
  </link>
  <!-- Joint from udrf_ankle_assembly to urdf_foot_assembly -->
  <joint name="left_ankle_roll_joint" type="revolute">
    <origin xyz="-0.012 0.028 -0.004" rpy="0 1.5708 0"/>
    <parent link="udrf_ankle_assembly"/>
    <child link="urdf_foot_assembly"/>
    <axis xyz="0 0 1"/>
    <limit effort="10" velocity="10" lower="-0.785398" upper="0.785398"/>
  </joint>
  <!-- Joint from urdf_l_tibia_assembly to udrf_ankle_assembly -->
  <joint name="left_ankle_pitch_joint" type="revolute">
    <origin xyz="-0 0.395 -0.051" rpy="0 -0 0"/>
    <parent link="urdf_l_tibia_assembly"/>
    <child link="udrf_ankle_assembly"/>
    <axis xyz="0 0 1"/>
    <limit effort="10" velocity="10" lower="-0.785398" upper="0.785398"/>
  </joint>
  <!-- Joint from urdf_lower_femur_assembly to urdf_l_tibia_assembly -->
  <joint name="left_knee_joint" type="revolute">
    <origin xyz="-0.055 -0 0.113" rpy="1.5708 0 -1.5708"/>
    <parent link="urdf_lower_femur_assembly"/>
    <child link="urdf_l_tibia_assembly"/>
    <axis xyz="0 0 1"/>
    <limit effort="10" velocity="10" lower="-0.174533" upper="1.5708"/>
  </joint>
  <!-- Joint from urdf_l_upper_femur_assembly to urdf_lower_femur_assembly -->
  <joint name="left_hip_yaw_joint" type="revolute">
    <origin xyz="-0 0.217 -0.053" rpy="-1.5708 0 0"/>
    <parent link="urdf_l_upper_femur_assembly"/>
    <child link="urdf_lower_femur_assembly"/>
    <axis xyz="0 0 1"/>
    <limit effort="10" velocity="10" lower="-1.5708" upper="1.5708"/>
  </joint>
  <!-- Joint from urdf_hip_assembly to urdf_l_upper_femur_assembly -->
  <joint name="left_hip_roll_joint" type="revolute">
    <origin xyz="0.055 0 0.073" rpy="-0 1.5708 0"/>
    <parent link="urdf_hip_assembly"/>
    <child link="urdf_l_upper_femur_assembly"/>
    <axis xyz="0 0 1"/>
    <limit effort="10" velocity="10" lower="-0.349066" upper="3.14159"/>
  </joint>
  <!-- Joint from urdf_base to urdf_hip_assembly -->
  <joint name="left_hip_pitch_joint" type="revolute">
    <origin xyz="-0.111301 0.0333787 -0.467748" rpy="-1.5708 -0 1.5708"/>
    <parent link="urdf_base"/>
    <child link="urdf_hip_assembly"/>
    <axis xyz="0 0 1"/>
    <limit effort="10" velocity="10" lower="-2.53073" upper="1.5708"/>
  </joint>
  <!-- Link urdf_hip_assembly_2 -->
  <link name="urdf_hip_assembly_2">
    <inertial>
      <origin xyz="-0.00420762 6.23946e-06 0.0739982" rpy="0 0 0"/>
      <mass value="1.73"/>
      <inertia ixx="0.00302301" ixy="-4.5747e-08" ixz="2.30858e-05" iyy="0.00263533" iyz="8.49179e-07" izz="0.00228746"/>
    </inertial>
    <!-- Part hip_2 -->
    <visual>
      <origin xyz="0.00253653 3.27638e-05 0.0570203" rpy="1.5708 1.5708 0"/>
      <geometry>
        <mesh filename="package://assets/hip.stl"/>
      </geometry>
      <material name="hip_2_material">
        <color rgba="0.0627451 0.266667 0.490196 1"/>
      </material>
    </visual>
    <collision>
      <origin xyz="0.00253653 3.27638e-05 0.0570203" rpy="1.5708 1.5708 0"/>
      <geometry>
        <mesh filename="package://assets/hip.stl"/>
      </geometry>
    </collision>
    <!-- Part stator_x8_p20_120_unified_7 -->
    <visual>
      <origin xyz="-0.043 0 0.078" rpy="-3.14159 -1.5708 0"/>
      <geometry>
        <mesh filename="package://assets/stator_x8_p20_120_unified.stl"/>
      </geometry>
      <material name="stator_x8_p20_120_unified_7_material">
        <color rgba="0.882353 0.572549 0.478431 1"/>
      </material>
    </visual>
    <collision>
      <origin xyz="-0.043 0 0.078" rpy="-3.14159 -1.5708 0"/>
      <geometry>
        <mesh filename="package://assets/stator_x8_p20_120_unified.stl"/>
      </geometry>
    </collision>
  </link>
  <!-- Link urdf_r_upper_femur_assemby -->
  <link name="urdf_r_upper_femur_assemby">
    <inertial>
      <origin xyz="0.000405705 0.147963 -0.0457092" rpy="0 0 0"/>
      <mass value="1.912"/>
      <inertia ixx="0.00557422" ixy="5.18237e-05" ixz="1.24938e-06" iyy="0.00336736" iyz="0.000930579" izz="0.00513139"/>
    </inertial>
    <!-- Part r_upper_femur -->
    <visual>
      <origin xyz="0.00151505 0.111761 -0.0257733" rpy="1.5708 0 -0"/>
      <geometry>
        <mesh filename="package://assets/r_upper_femur.stl"/>
      </geometry>
      <material name="r_upper_femur_material">
        <color rgba="0.941176 0.87451 0.678431 1"/>
      </material>
    </visual>
    <collision>
      <origin xyz="0.00151505 0.111761 -0.0257733" rpy="1.5708 0 -0"/>
      <geometry>
        <mesh filename="package://assets/r_upper_femur.stl"/>
      </geometry>
    </collision>
    <!-- Part stator_x8_p20_120_unified_8 -->
    <visual>
      <origin xyz="-0 0.124 -0.053" rpy="-1.5708 -0 0"/>
      <geometry>
        <mesh filename="package://assets/stator_x8_p20_120_unified.stl"/>
      </geometry>
      <material name="stator_x8_p20_120_unified_8_material">
        <color rgba="0.882353 0.572549 0.478431 1"/>
      </material>
    </visual>
    <collision>
      <origin xyz="-0 0.124 -0.053" rpy="-1.5708 -0 0"/>
      <geometry>
        <mesh filename="package://assets/stator_x8_p20_120_unified.stl"/>
      </geometry>
    </collision>
  </link>
  <!-- Link urdf_lower_femur_assembly_2 -->
  <link name="urdf_lower_femur_assembly_2">
    <inertial>
      <origin xyz="-0.00357383 -1.0389e-08 0.103307" rpy="0 0 0"/>
      <mass value="1.817"/>
      <inertia ixx="0.00421827" ixy="-2.5e-11" ixz="0.00019709" iyy="0.00383469" iyz="2.1291e-08" izz="0.00258541"/>
    </inertial>
    <!-- Part lower_femur_2 -->
    <visual>
      <origin xyz="0.00389134 5.752e-09 0.070766" rpy="-3.14159 0 3.14159"/>
      <geometry>
        <mesh filename="package://assets/lower_femur.stl"/>
      </geometry>
      <material name="lower_femur_2_material">
        <color rgba="0.380392 0.0470588 0.435294 1"/>
      </material>
    </visual>
    <collision>
      <origin xyz="0.00389134 5.752e-09 0.070766" rpy="-3.14159 0 3.14159"/>
      <geometry>
        <mesh filename="package://assets/lower_femur.stl"/>
      </geometry>
    </collision>
    <!-- Part stator_x8_p20_120_unified_9 -->
    <visual>
      <origin xyz="-0.043 0 0.113" rpy="0 1.5708 0"/>
      <geometry>
        <mesh filename="package://assets/stator_x8_p20_120_unified.stl"/>
      </geometry>
      <material name="stator_x8_p20_120_unified_9_material">
        <color rgba="0.882353 0.572549 0.478431 1"/>
      </material>
    </visual>
    <collision>
      <origin xyz="-0.043 0 0.113" rpy="0 1.5708 0"/>
      <geometry>
        <mesh filename="package://assets/stator_x8_p20_120_unified.stl"/>
      </geometry>
    </collision>
  </link>
  <!-- Link urdf_r_tibia_assembly -->
  <link name="urdf_r_tibia_assembly">
    <inertial>
      <origin xyz="0.00463921 0.190727 0.0449175" rpy="0 0 0"/>
      <mass value="6.45984"/>
      <inertia ixx="0.0785959" ixy="-0.00175015" ixz="-0.000322094" iyy="0.0153456" iyz="-0.0088755" izz="0.0762312"/>
    </inertial>
    <!-- Part urdf_spacer_x4_3 -->
    <visual>
      <origin xyz="0.05375 0.16 0.055" rpy="-3.14159 1.51844 -1.5708"/>
      <geometry>
        <mesh filename="package://assets/urdf_spacer_x4.stl"/>
      </geometry>
      <material name="urdf_spacer_x4_3_material">
        <color rgba="0.615686 0.811765 0.929412 1"/>
      </material>
    </visual>
    <collision>
      <origin xyz="0.05375 0.16 0.055" rpy="-3.14159 1.51844 -1.5708"/>
      <geometry>
        <mesh filename="package://assets/urdf_spacer_x4.stl"/>
      </geometry>
    </collision>
    <!-- Part m6_threaded_bar_225mm_2 -->
    <visual>
      <origin xyz="0.0845 0.326658 0.0363483" rpy="3.14159 1.50098 1.5708"/>
      <geometry>
        <mesh filename="package://assets/m6_threaded_bar_225mm.stl"/>
      </geometry>
      <material name="m6_threaded_bar_225mm_2_material">
        <color rgba="0.27451 0.0117647 0.317647 1"/>
      </material>
    </visual>
    <collision>
      <origin xyz="0.0845 0.326658 0.0363483" rpy="3.14159 1.50098 1.5708"/>
      <geometry>
        <mesh filename="package://assets/m6_threaded_bar_225mm.stl"/>
      </geometry>
    </collision>
    <!-- Part urdf_spacer_x4_4 -->
    <visual>
      <origin xyz="0.05375 0.235 0.055" rpy="-3.14159 -1.50098 -1.5708"/>
      <geometry>
        <mesh filename="package://assets/urdf_spacer_x4.stl"/>
      </geometry>
      <material name="urdf_spacer_x4_4_material">
        <color rgba="0.615686 0.811765 0.929412 1"/>
      </material>
    </visual>
    <collision>
      <origin xyz="0.05375 0.235 0.055" rpy="-3.14159 -1.50098 -1.5708"/>
      <geometry>
        <mesh filename="package://assets/urdf_spacer_x4.stl"/>
      </geometry>
    </collision>
    <!-- Part urdf_r_tibia_assembly -->
    <visual>
      <origin xyz="0.000678806 0.186264 0.0431372" rpy="1.5708 1.5708 0"/>
      <geometry>
        <mesh filename="package://assets/urdf_r_tibia_assembly.stl"/>
      </geometry>
      <material name="urdf_r_tibia_assembly_material">
        <color rgba="0.615686 0.811765 0.929412 1"/>
      </material>
    </visual>
    <collision>
      <origin xyz="0.000678806 0.186264 0.0431372" rpy="1.5708 1.5708 0"/>
      <geometry>
        <mesh filename="package://assets/urdf_r_tibia_assembly.stl"/>
      </geometry>
    </collision>
    <!-- Part stator_x4_p36_36_unified_9 -->
    <visual>
      <origin xyz="-0.018 0.16 0.055" rpy="-0 1.5708 0"/>
      <geometry>
        <mesh filename="package://assets/stator_x4_p36_36_unified.stl"/>
      </geometry>
      <material name="stator_x4_p36_36_unified_9_material">
        <color rgba="0.764706 0.545098 0.803922 1"/>
      </material>
    </visual>
    <collision>
      <origin xyz="-0.018 0.16 0.055" rpy="-0 1.5708 0"/>
      <geometry>
        <mesh filename="package://assets/stator_x4_p36_36_unified.stl"/>
      </geometry>
    </collision>
    <!-- Part m6_threaded_bar_300mm_2 -->
    <visual>
      <origin xyz="0.0845 0.288767 0.0732859" rpy="0 1.51844 -1.5708"/>
      <geometry>
        <mesh filename="package://assets/m6_threaded_bar_300mm.stl"/>
      </geometry>
      <material name="m6_threaded_bar_300mm_2_material">
        <color rgba="0.141176 0.0352941 0.396078 1"/>
      </material>
    </visual>
    <collision>
      <origin xyz="0.0845 0.288767 0.0732859" rpy="0 1.51844 -1.5708"/>
      <geometry>
        <mesh filename="package://assets/m6_threaded_bar_300mm.stl"/>
      </geometry>
    </collision>
    <!-- Part stator_x4_p36_36_unified_10 -->
    <visual>
      <origin xyz="-0.018 0.235 0.055" rpy="-3.14159 -1.5708 0"/>
      <geometry>
        <mesh filename="package://assets/stator_x4_p36_36_unified.stl"/>
      </geometry>
      <material name="stator_x4_p36_36_unified_10_material">
        <color rgba="0.764706 0.545098 0.803922 1"/>
      </material>
    </visual>
    <collision>
      <origin xyz="-0.018 0.235 0.055" rpy="-3.14159 -1.5708 0"/>
      <geometry>
        <mesh filename="package://assets/stator_x4_p36_36_unified.stl"/>
      </geometry>
    </collision>
  </link>
  <!-- Link udrf_ankle_assembly_2 -->
  <link name="udrf_ankle_assembly_2">
    <inertial>
      <origin xyz="-0 0.0125426 -0.004" rpy="0 0 0"/>
      <mass value="0.0818219"/>
      <inertia ixx="1.69449e-05" ixy="0" ixz="0" iyy="1.25404e-05" iyz="0" izz="2.15245e-05"/>
    </inertial>
    <!-- Part udrf_ankle_assembly_2 -->
    <visual>
      <origin xyz="-0 0.0125426 -0.004" rpy="1.5708 1.5708 0"/>
      <geometry>
        <mesh filename="package://assets/udrf_ankle_assembly.stl"/>
      </geometry>
      <material name="udrf_ankle_assembly_2_material">
        <color rgba="0.615686 0.811765 0.929412 1"/>
      </material>
    </visual>
    <collision>
      <origin xyz="-0 0.0125426 -0.004" rpy="1.5708 1.5708 0"/>
      <geometry>
        <mesh filename="package://assets/udrf_ankle_assembly.stl"/>
      </geometry>
    </collision>
  </link>
  <!-- Link urdf_foot_assembly_2 -->
  <link name="urdf_foot_assembly_2">
    <inertial>
      <origin xyz="-9.74e-10 0.0209668 0.0427639" rpy="0 0 0"/>
      <mass value="0.504"/>
      <inertia ixx="0.00202397" ixy="-1.6e-11" ixz="1.2e-11" iyy="0.00229243" iyz="5.90887e-06" izz="0.000361698"/>
    </inertial>
    <!-- Part urdf_foot_assembly_2 -->
    <visual>
      <origin xyz="5.5e-11 0.0209668 0.0427639" rpy="1.5708 0 0"/>
      <geometry>
        <mesh filename="package://assets/urdf_foot_assembly.stl"/>
      </geometry>
      <material name="urdf_foot_assembly_2_material">
        <color rgba="0.615686 0.811765 0.929412 1"/>
      </material>
    </visual>
    <collision>
      <origin xyz="5.5e-11 0.0209668 0.0427639" rpy="1.5708 0 0"/>
      <geometry>
        <mesh filename="package://assets/urdf_foot_assembly.stl"/>
      </geometry>
    </collision>
  </link>
  <!-- Joint from udrf_ankle_assembly_2 to urdf_foot_assembly_2 -->
  <joint name="right_ankle_pitch_joint" type="revolute">
    <origin xyz="-0.012 0.028 -0.004" rpy="0 1.5708 0"/>
    <parent link="udrf_ankle_assembly_2"/>
    <child link="urdf_foot_assembly_2"/>
    <axis xyz="0 0 1"/>
    <limit effort="10" velocity="10" lower="-0.785398" upper="0.785398"/>
  </joint>
  <!-- Joint from urdf_r_tibia_assembly to udrf_ankle_assembly_2 -->
  <joint name="right_ankle_roll_joint" type="revolute">
    <origin xyz="0 0.395 0.059" rpy="0 -0 0"/>
    <parent link="urdf_r_tibia_assembly"/>
    <child link="udrf_ankle_assembly_2"/>
    <axis xyz="0 0 1"/>
    <limit effort="10" velocity="10" lower="-0.785398" upper="0.785398"/>
  </joint>
  <!-- Joint from urdf_lower_femur_assembly_2 to urdf_r_tibia_assembly -->
  <joint name="right_knee_joint" type="revolute">
    <origin xyz="0.055 -0 0.113" rpy="1.5708 0 -1.5708"/>
    <parent link="urdf_lower_femur_assembly_2"/>
    <child link="urdf_r_tibia_assembly"/>
    <axis xyz="0 0 1"/>
    <limit effort="10" velocity="10" lower="-0.174533" upper="1.5708"/>
  </joint>
  <!-- Joint from urdf_r_upper_femur_assemby to urdf_lower_femur_assembly_2 -->
  <joint name="right_hip_yaw_joint" type="revolute">
    <origin xyz="0 0.217 -0.053" rpy="-1.5708 0 -0"/>
    <parent link="urdf_r_upper_femur_assemby"/>
    <child link="urdf_lower_femur_assembly_2"/>
    <axis xyz="0 0 1"/>
    <limit effort="10" velocity="10" lower="-1.5708" upper="1.5708"/>
  </joint>
  <!-- Joint from urdf_hip_assembly_2 to urdf_r_upper_femur_assemby -->
  <joint name="right_hip_roll_joint" type="revolute">
    <origin xyz="0.055 0 0.078" rpy="-3.14159 -1.5708 0"/>
    <parent link="urdf_hip_assembly_2"/>
    <child link="urdf_r_upper_femur_assemby"/>
    <axis xyz="0 0 1"/>
    <limit effort="10" velocity="10" lower="-3.14159" upper="0.349066"/>
  </joint>
  <!-- Joint from urdf_base to urdf_hip_assembly_2 -->
  <joint name="right_hip_pitch_joint" type="revolute">
    <origin xyz="0.107699 0.0333787 -0.467748" rpy="1.5708 -0 1.5708"/>
    <parent link="urdf_base"/>
    <child link="urdf_hip_assembly_2"/>
    <axis xyz="0 0 1"/>
    <limit effort="10" velocity="10" lower="-2.53073" upper="1.5708"/>
  </joint>
</robot>
